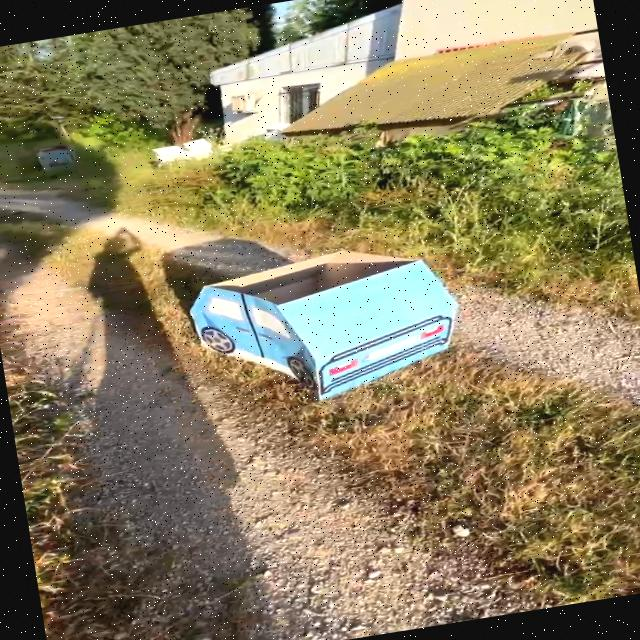blue_car: (125, 207, 494, 430)
